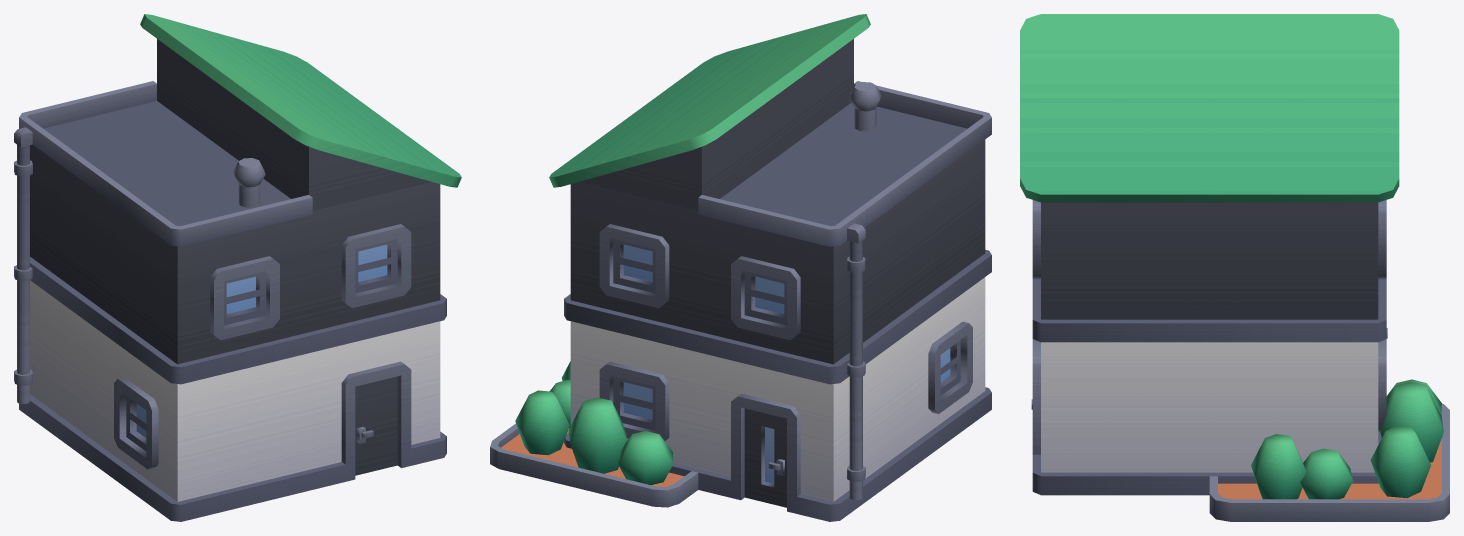
File: building-type-l.glb
The picture shows the model from 3 angles, left to right: view 1: azimuth 30°, elevation 25°; view 2: azimuth 150°, elevation 25°; view 3: azimuth 270°, elevation 25°; orthographic projection. The views are drawn at different scales.
Parts seen in each view (by area): view 1: building-type-l; view 2: building-type-l; view 3: building-type-l.
Part boxes in pixels (x1,y1,x2,y2): building-type-l: [14, 14, 461, 521]; building-type-l: [490, 14, 991, 521]; building-type-l: [1020, 14, 1449, 521].
Size of the model in its own units: 1.03 by 1.05 by 1.02.
Materials: 1 (1 with a texture image).
